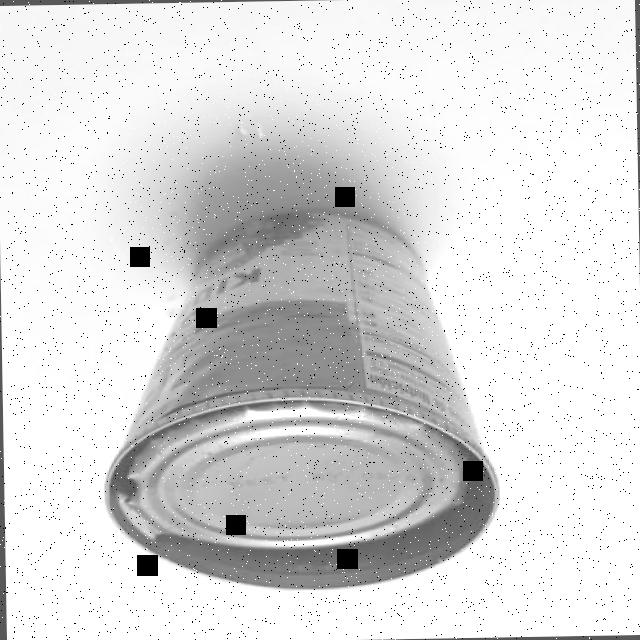can: (98, 204, 505, 597)
